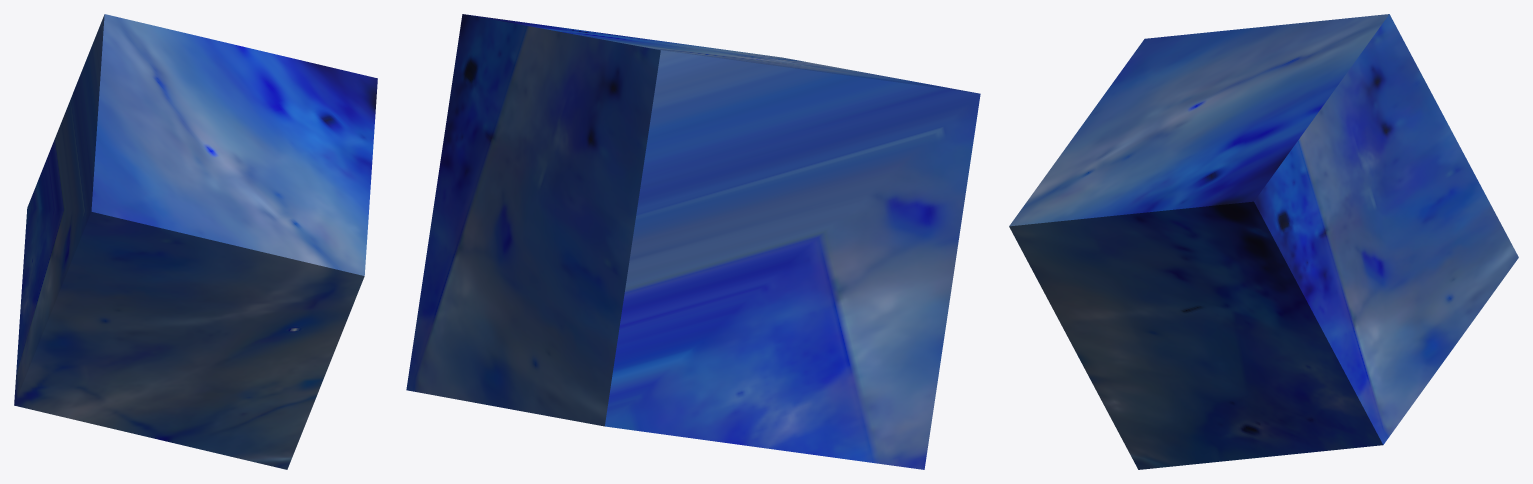
Rendered from BlueBlocks_20.gltf.
3 renders of one model, left to right at view 1: azimuth 30°, elevation 25°; view 2: azimuth 150°, elevation 25°; view 3: azimuth 270°, elevation 25°, orthographic. The views are drawn at different scales.
Parts seen in each view (by area): view 1: BlueBlocks_20; view 2: BlueBlocks_20; view 3: BlueBlocks_20.
Boxes of the visible parts, x1,y1,x2,y2 form: BlueBlocks_20: (14, 14, 377, 469); BlueBlocks_20: (406, 14, 980, 469); BlueBlocks_20: (1009, 14, 1518, 469).
Size of the model in its own units: 3.16 by 3.3 by 3.62.
Materials: 1 (1 with a texture image).
